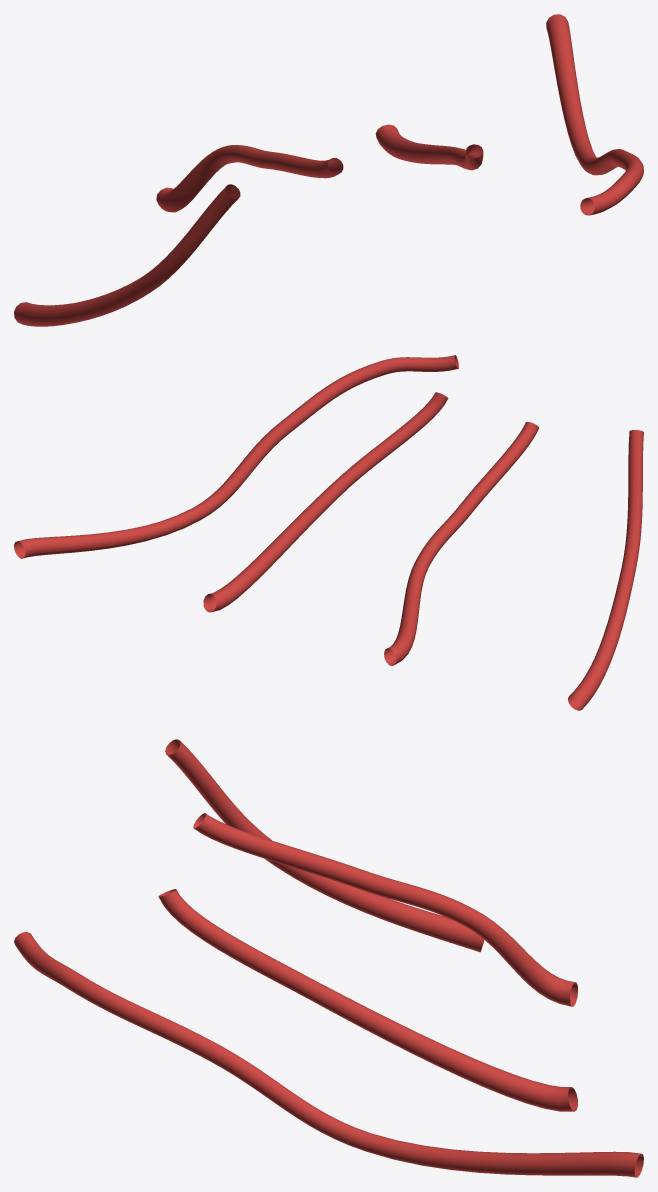
3 views of the same model, one above another, from view 1: azimuth 30°, elevation 25°; view 2: azimuth 150°, elevation 25°; view 3: azimuth 270°, elevation 25° (orthographic). The views are drawn at different scales.
Parts seen in each view (by area): view 1: 左侧指掌侧总动脉; view 2: 左侧指掌侧总动脉; view 3: 左侧指掌侧总动脉.
Boxes of the visible parts, box(x1,y1,x2,y2) form: 左侧指掌侧总动脉: box(14, 14, 643, 326); 左侧指掌侧总动脉: box(14, 355, 643, 710); 左侧指掌侧总动脉: box(14, 739, 643, 1177).
Bounding box in the file's own units: 0.0835 × 0.0287 × 0.0665.
